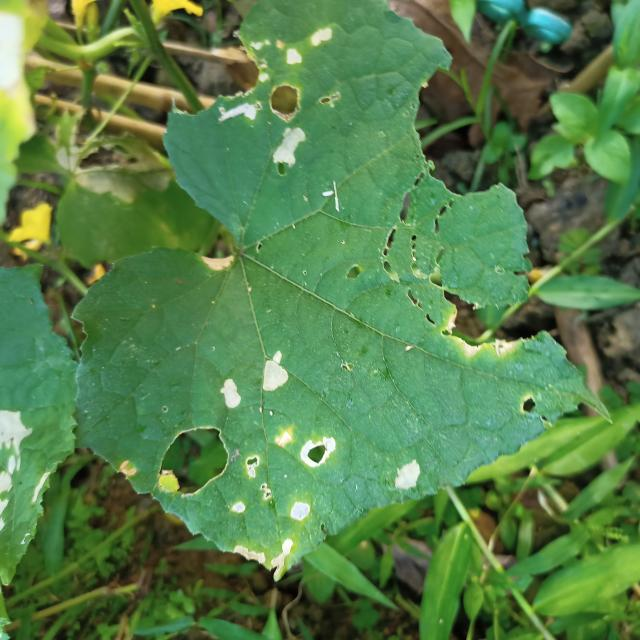disease_cucumber: (221, 430, 429, 583), (213, 20, 343, 175), (213, 353, 298, 416)
